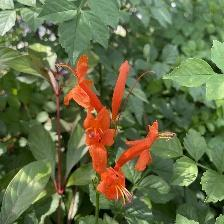honeysuckle: (68, 60, 117, 168)
